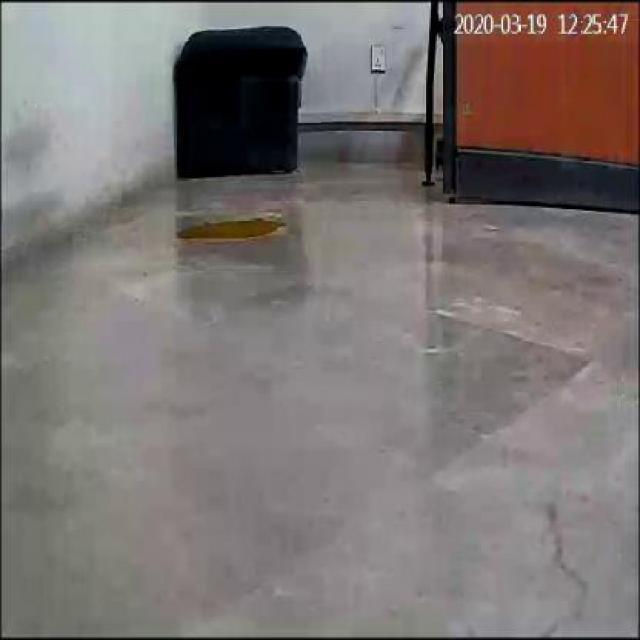spill: (174, 214, 286, 242)
